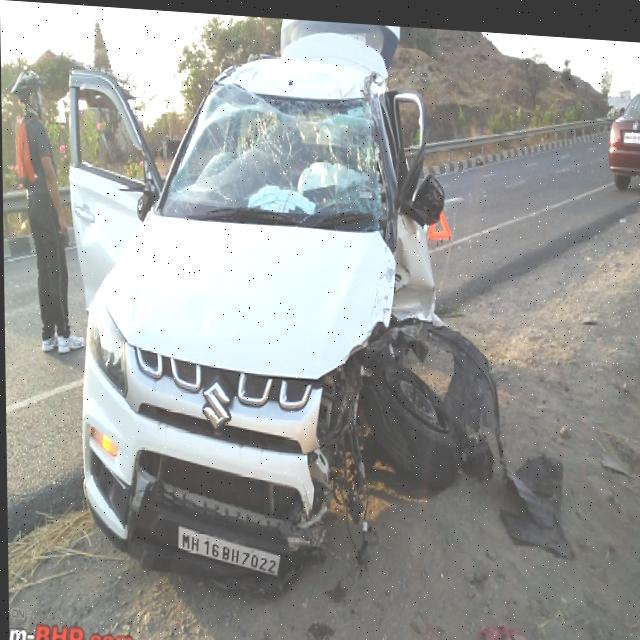plate: (173, 518, 281, 576), (622, 120, 640, 135)
